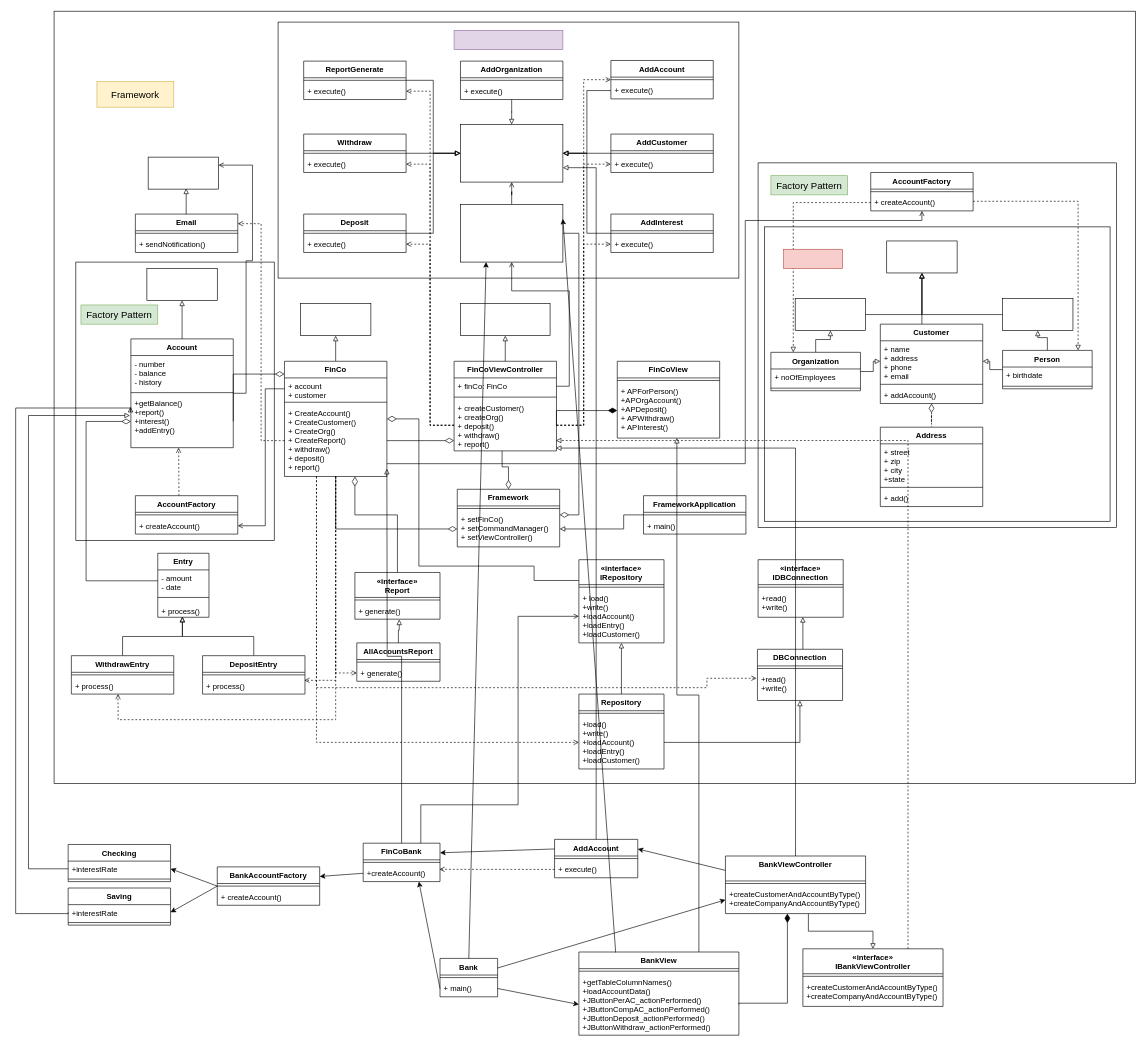
Image size: 1147x1048. Some labels were removed from this diagram. Each missing label, with the centre of its shape:
Command Pattern: the point at 508,40
CommandManager + invoke(): the point at 511,233
Party Pattern: the point at 813,258
«interface» IAccount: the point at 181,284
«interface» ICommand: the point at 511,153
«interface» ICustomer: the point at 921,256
«interface» IFinco: the point at 335,319
«interface» IFinCoViewController: the point at 505,319
«interface» INotification: the point at 183,172
«interface» IOrganization: the point at 830,314
«interface» IPerson: the point at 1037,314
